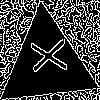X: (22, 38, 67, 76)
